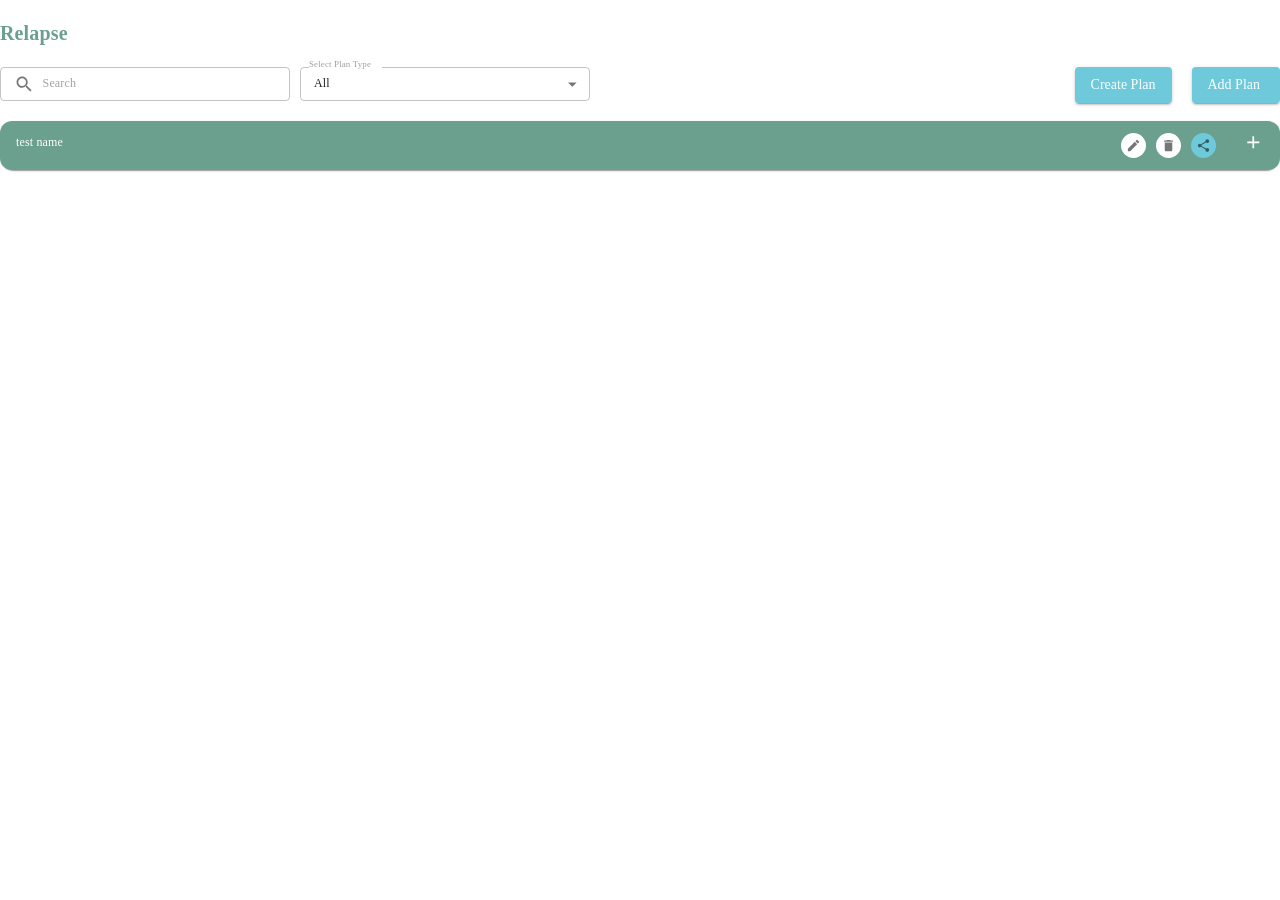
Test: Therapist patient relapse plan › should delete relapse plan question fail
The width and height of the screenshot is (1280, 900).
Click the icon with test id "button-add-icon_0".
click(1254, 142)  # box [1243,132,1264,152]
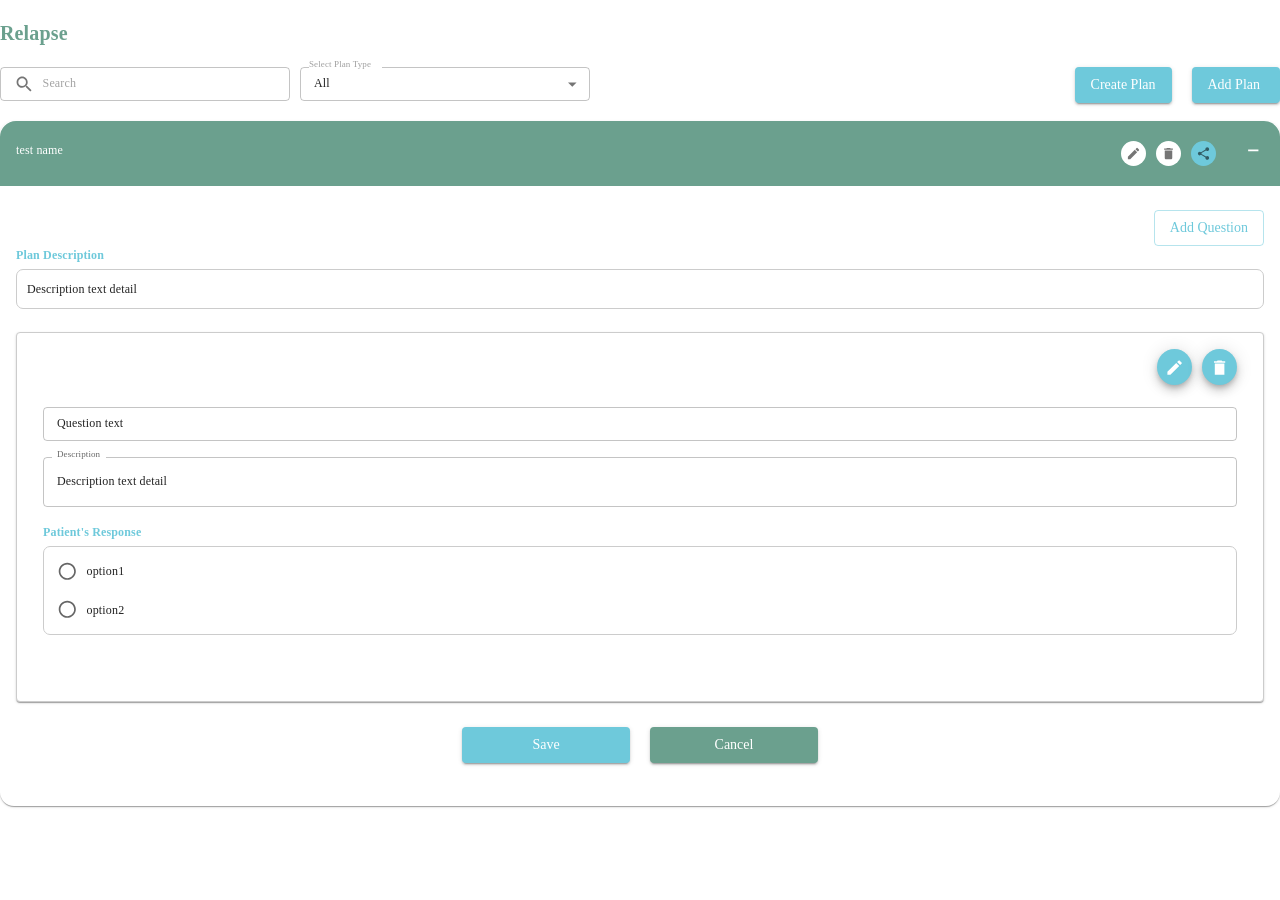
Click the button with test id "iconButtonQuestion_0".
click(1220, 367)  # box [1202,349,1237,385]
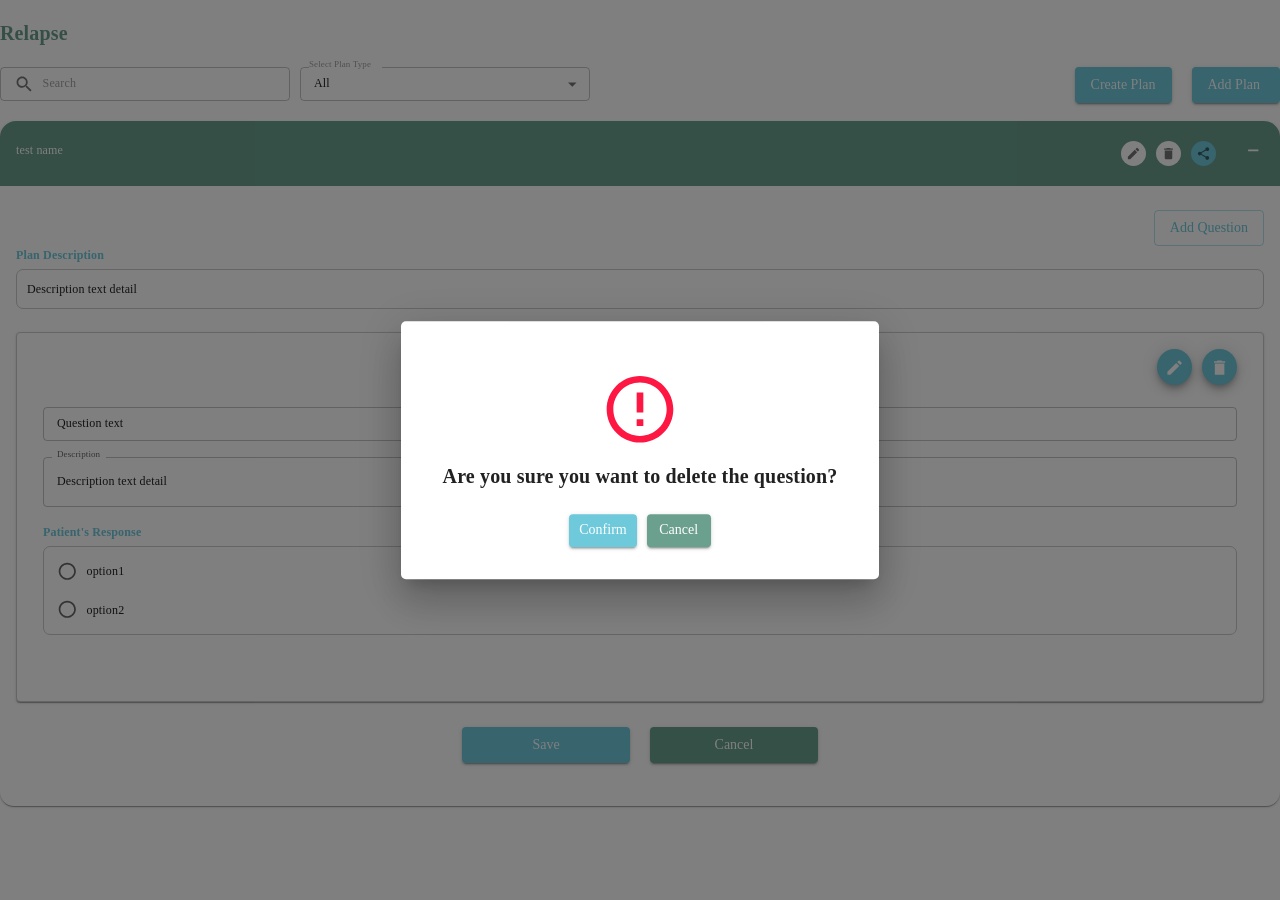
Click the button "Confirm".
click(603, 531)  # box [569,514,637,547]
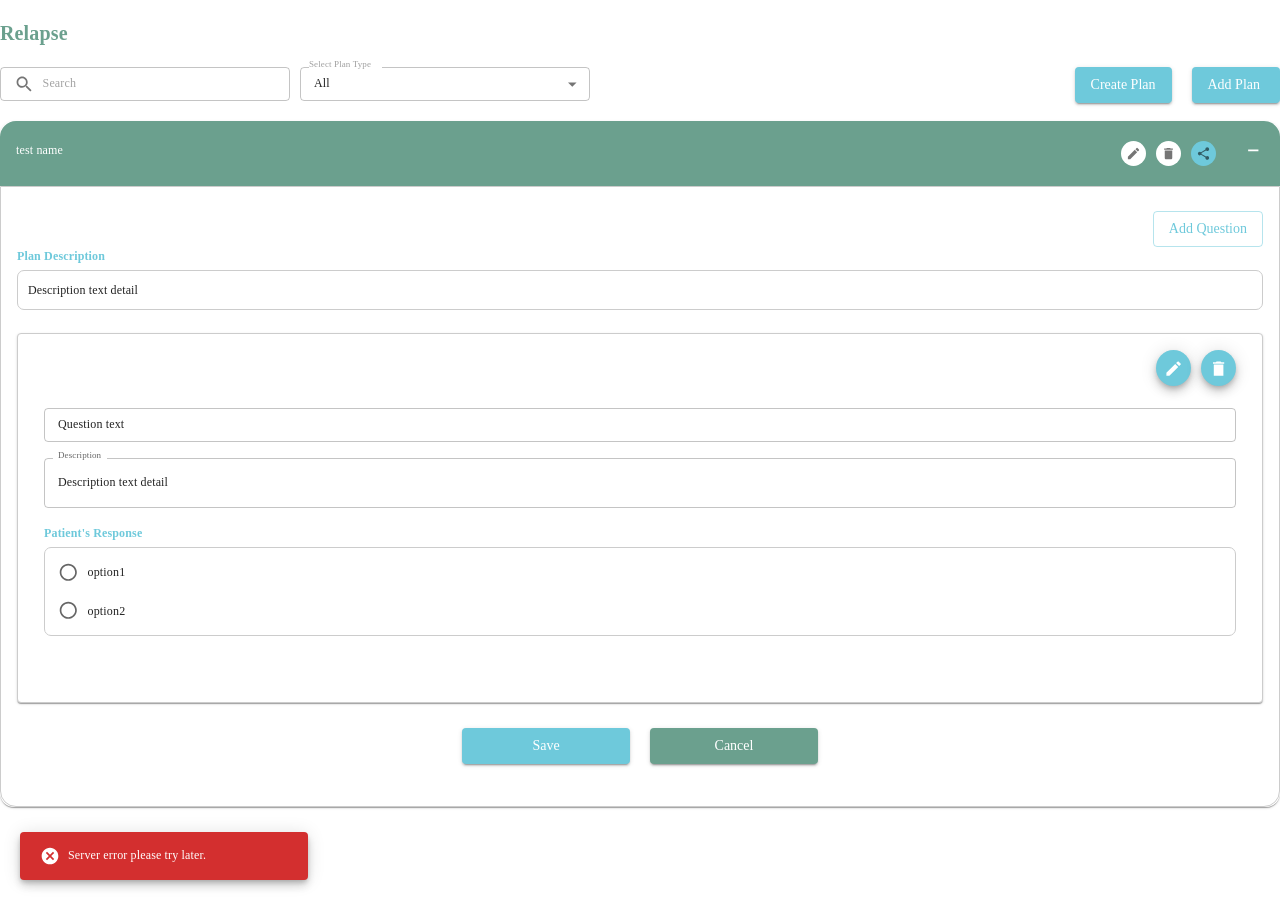
Check: the text "Server error please try later." is shown, box [40,846,206,866]
